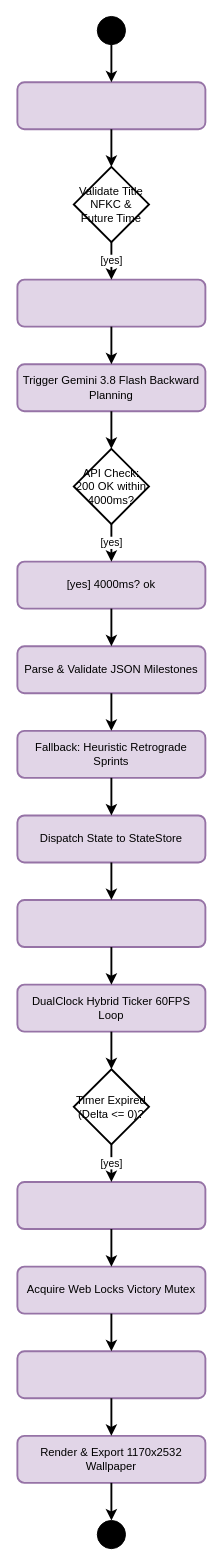
The diagram is 222 pixels wide and 1565 high, and some of its shapes have lost their labels. Here are the shapes that lost their labels. From the top down, the centre of each, then its label:
At (111,105): "Enter Goal & Deadline".
At (111,302): "[yes] Time ok".
At (111,923): "Broadcast State via BroadcastChannel".
At (111,1205): "[yes] 0)? ok".
At (111,1374): "Single Tab Chime & Confetti Burst".
